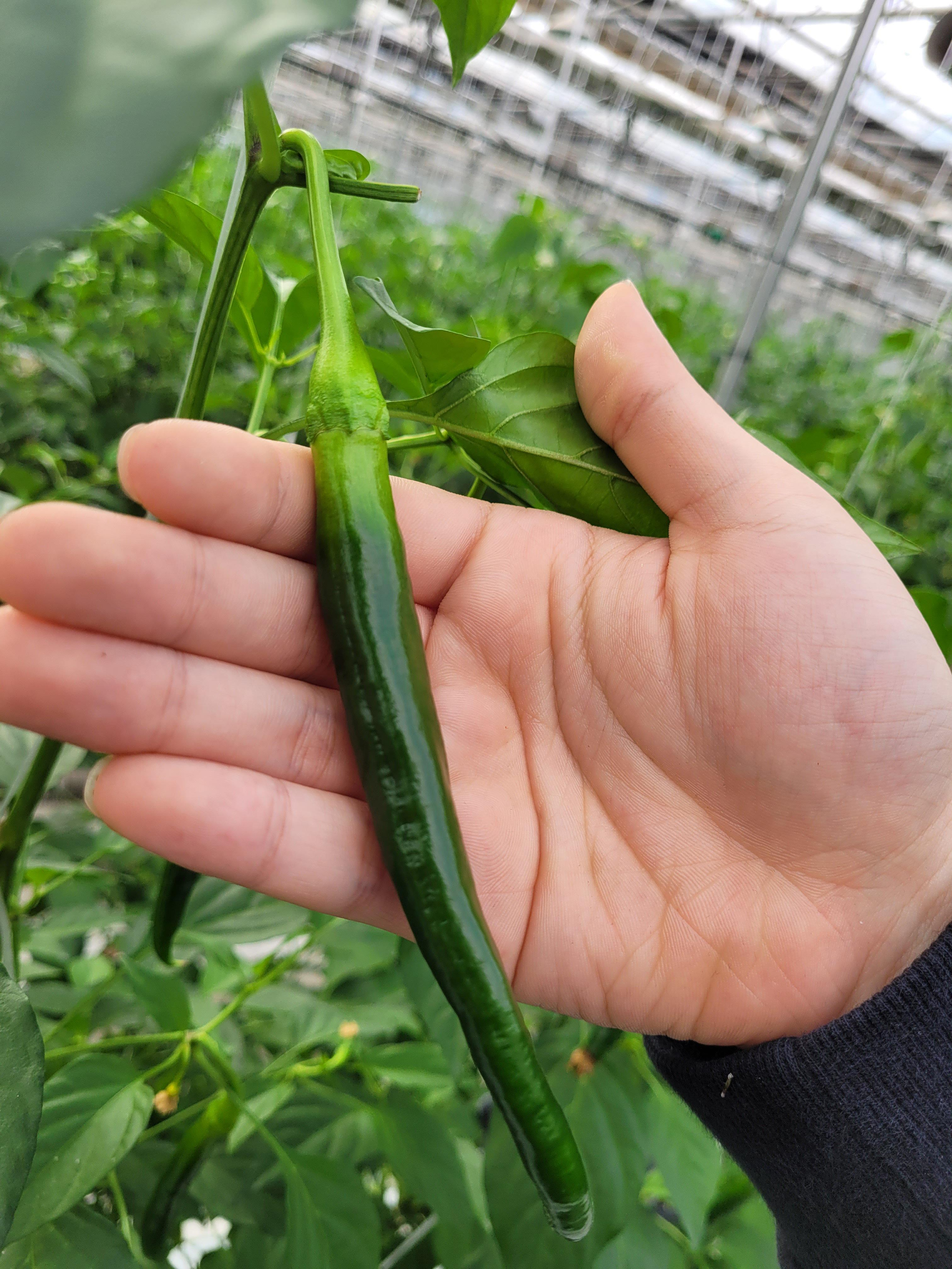Buah Cabai Sehat: (299, 335, 603, 1252)
